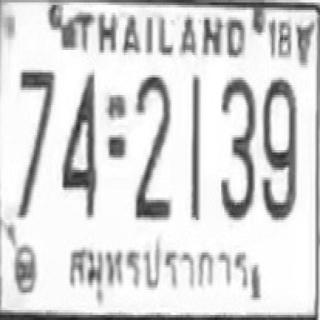N01: (188, 74, 200, 221)
N02: (133, 72, 170, 218)
N03: (219, 75, 254, 218)
N04: (59, 70, 96, 215)
N07: (15, 68, 54, 218)
N09: (260, 75, 296, 218)
P57: (63, 238, 256, 300)
